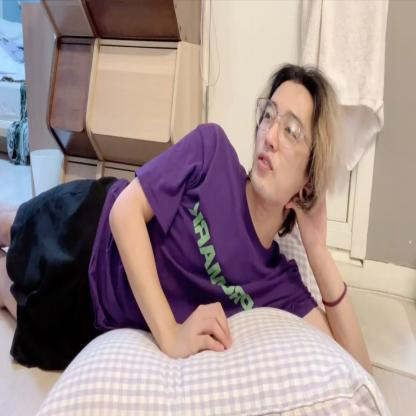streamer: (1, 62, 373, 375)
